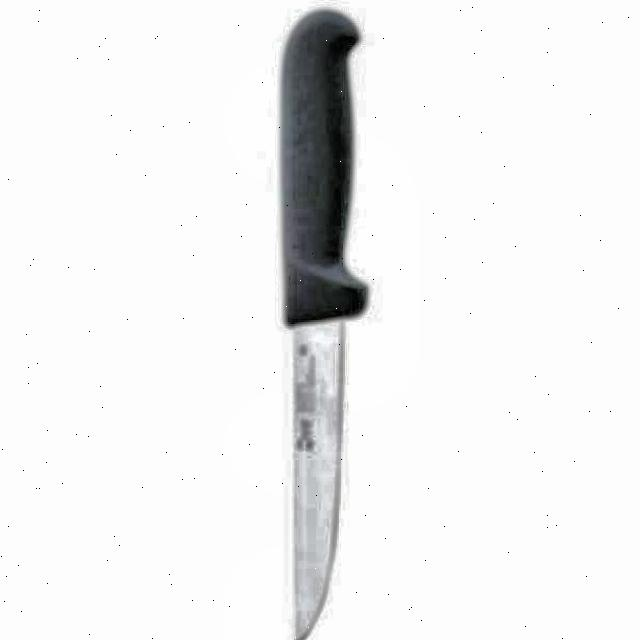knife: (269, 4, 374, 640)
